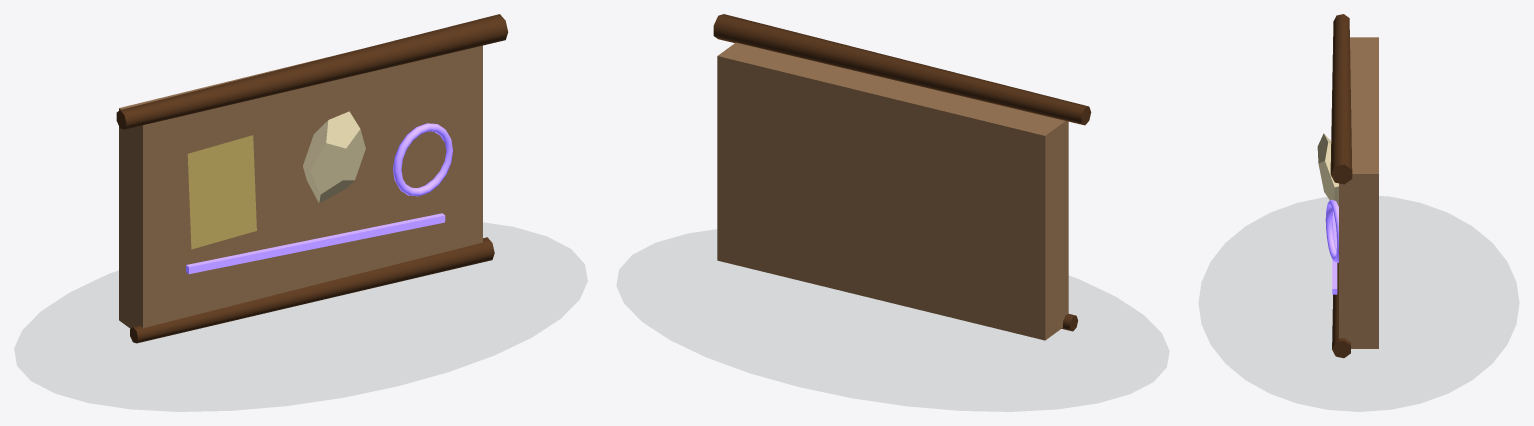
The model's file is collection_wall.glb.
3 renders of one model, left to right at view 1: azimuth 30°, elevation 25°; view 2: azimuth 150°, elevation 25°; view 3: azimuth 270°, elevation 25°, orthographic. The views are drawn at different scales.
Visible parts, largest first — view 1: collection_wall_slab, soft_ground_shadow, collection_wall_top_beam, collection_wall_hide_strip, collection_wall_bottom_beam, collection_wall_mask, collection_wall_carved_line, collection_wall_token_ring; view 2: collection_wall_slab, soft_ground_shadow, collection_wall_top_beam; view 3: soft_ground_shadow, collection_wall_slab, collection_wall_top_beam, collection_wall_mask, collection_wall_bottom_beam, collection_wall_token_ring, collection_wall_carved_line.
Boxes of the visible parts, bbox=[...] form: collection_wall_slab: bbox=[119, 45, 482, 328]; soft_ground_shadow: bbox=[15, 223, 586, 411]; collection_wall_top_beam: bbox=[116, 14, 508, 129]; collection_wall_hide_strip: bbox=[187, 135, 256, 249]; collection_wall_bottom_beam: bbox=[130, 237, 494, 343]; collection_wall_mask: bbox=[303, 111, 365, 203]; collection_wall_carved_line: bbox=[186, 213, 445, 274]; collection_wall_token_ring: bbox=[393, 123, 452, 196]; collection_wall_slab: bbox=[717, 42, 1068, 340]; soft_ground_shadow: bbox=[617, 230, 1168, 411]; collection_wall_top_beam: bbox=[713, 14, 1091, 125]; soft_ground_shadow: bbox=[1199, 196, 1518, 410]; collection_wall_slab: bbox=[1339, 37, 1378, 348]; collection_wall_top_beam: bbox=[1330, 14, 1352, 184]; collection_wall_mask: bbox=[1317, 133, 1338, 206]; collection_wall_bottom_beam: bbox=[1332, 262, 1350, 358]; collection_wall_token_ring: bbox=[1325, 199, 1338, 262]; collection_wall_carved_line: bbox=[1332, 211, 1337, 294].
Size of the model in its own units: 3.63 by 1.67 by 2.26.
